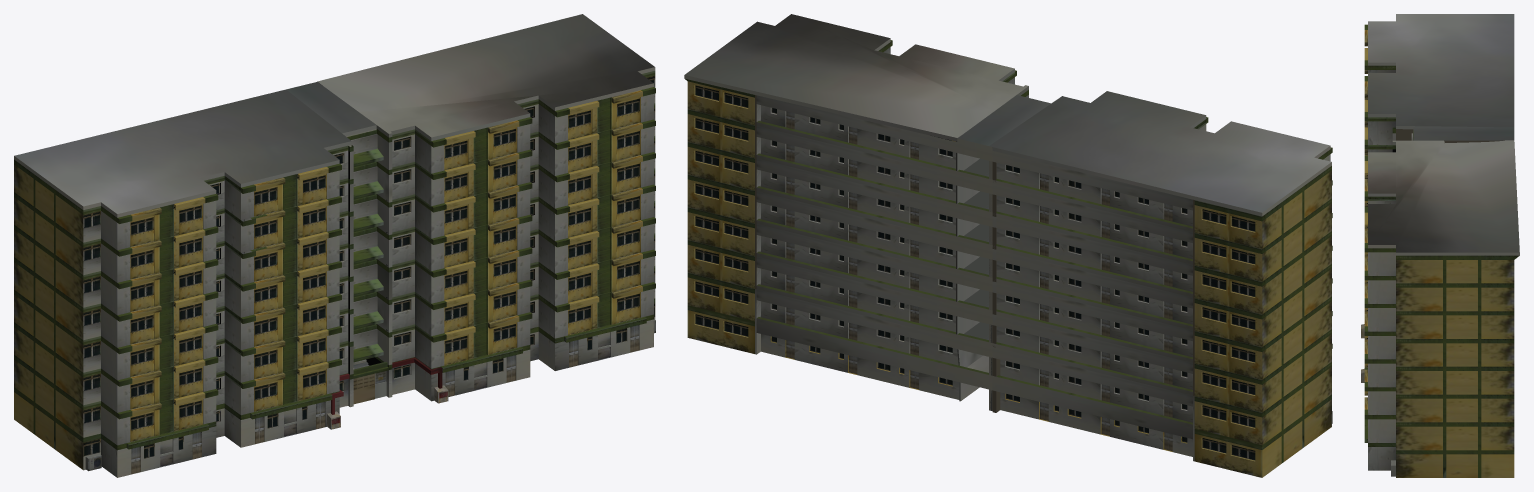
The model's file is hdb.fbx.
3 views of the same model, side by side, from view 1: azimuth 30°, elevation 25°; view 2: azimuth 150°, elevation 25°; view 3: azimuth 270°, elevation 25° (orthographic). The views are drawn at different scales.
Parts seen in each view (by area): view 1: hdb_Baked; view 2: hdb_Baked; view 3: hdb_Baked.
Part boxes in pixels (x1=…): hdb_Baked: x1=14, y1=14, x2=655, y2=477; hdb_Baked: x1=684, y1=14, x2=1332, y2=477; hdb_Baked: x1=1361, y1=14, x2=1519, y2=477.
Size of the model in its own units: 512 by 226 by 144.
1 material, 1 textured.
